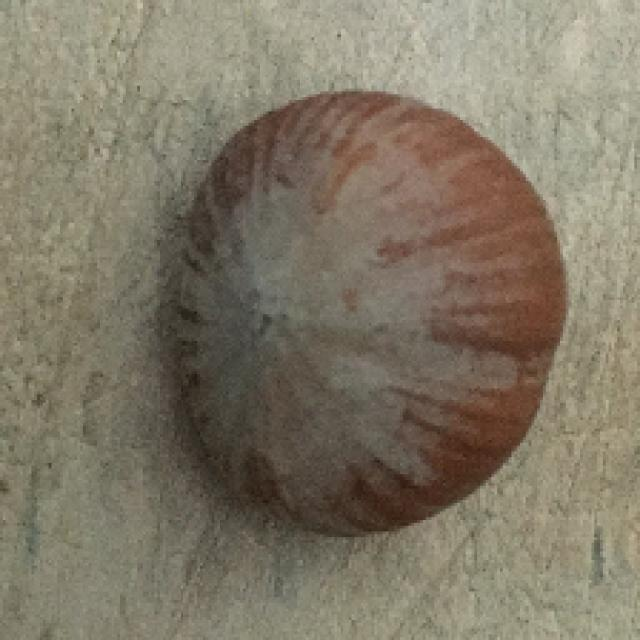qualityHazelnut: (172, 87, 566, 541)
